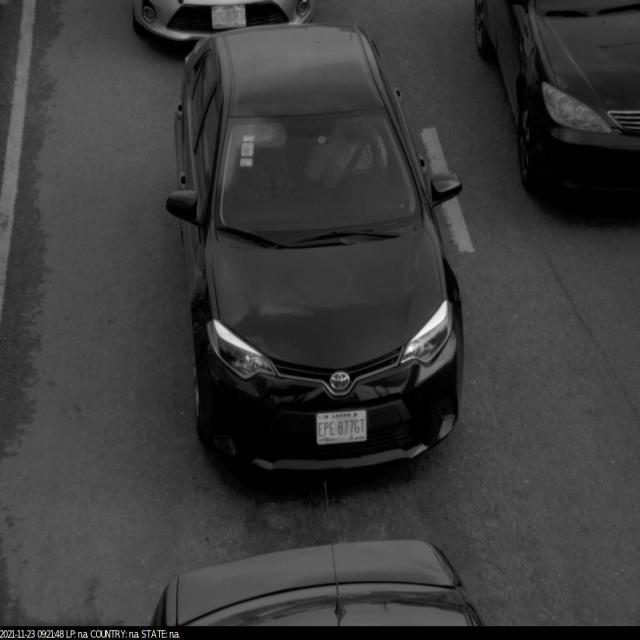windshield: (204, 97, 428, 256)
